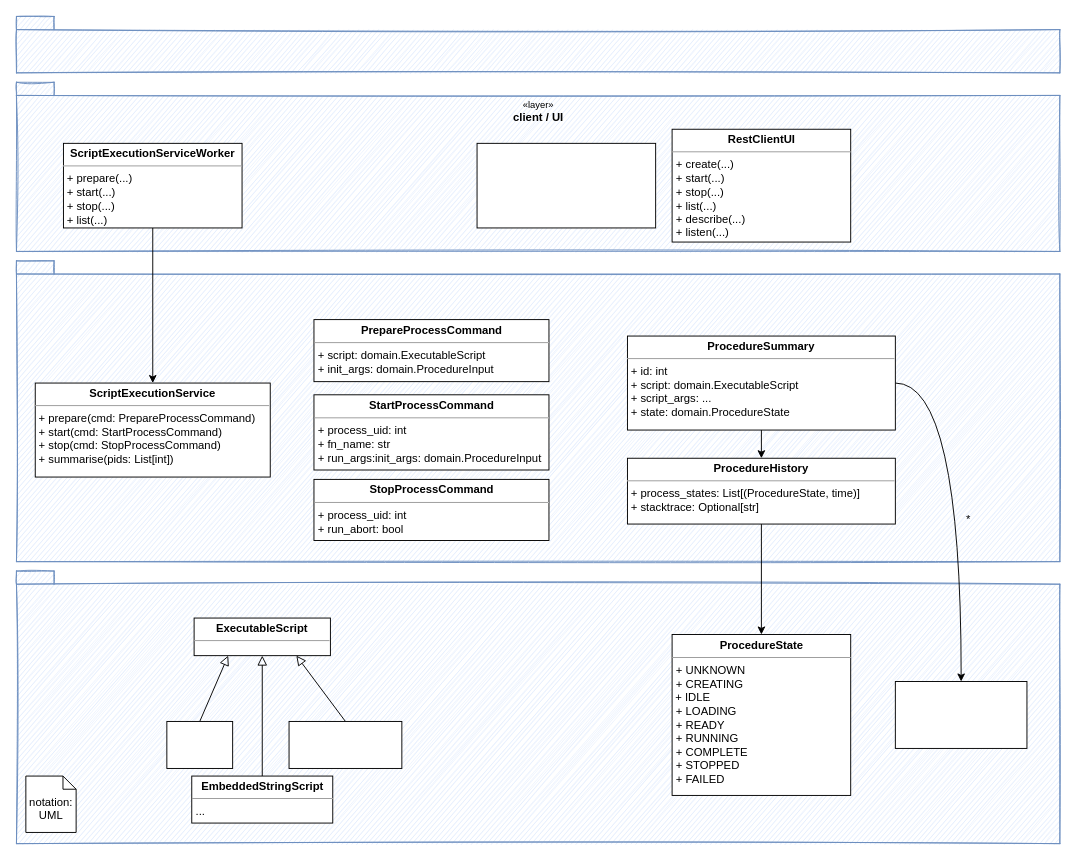
Image size: 1076x860. Some labels were removed from this diagram. Here are the shapes that lost their labels. From the top down, the box of each, then its label:
(16, 16, 1060, 73): «layer» infrastructure
(476, 142, 656, 228): FlaskWorker + prepare(...) + start(...) + stop(...) + list(...)
(16, 260, 1060, 562): «layer» application
(16, 570, 1060, 844): «layer» domain
(894, 681, 1027, 748): ProcedureInput + args: List + kwargs: Dict[str, Any]
(166, 721, 233, 768): GitScript ...
(288, 721, 402, 768): FilesystemScript ...
